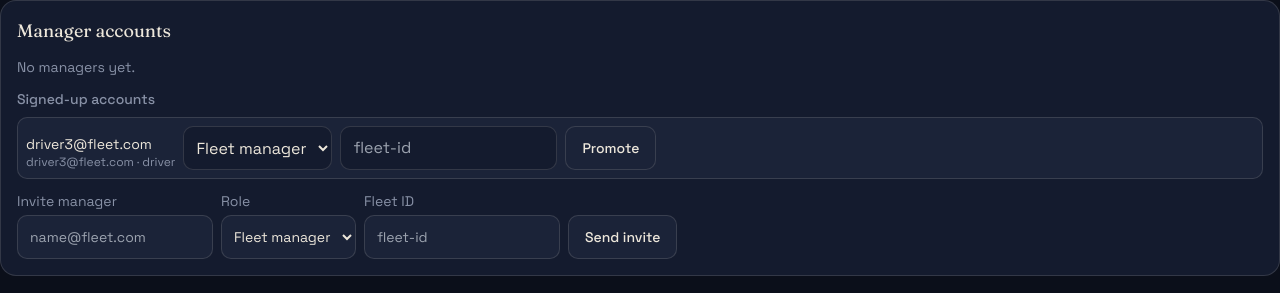
Scenario: ManagerList (real mode — Supabase env vars configured) › promotes a candidate to admin for an admin caller, hiding the fleet ID input and requiring none
This screenshot has width=1280, height=293.
Select "Admin" in the dropdown named "Role for driver3@fleet.com" at (258, 148), box 183,126 -> 332,170
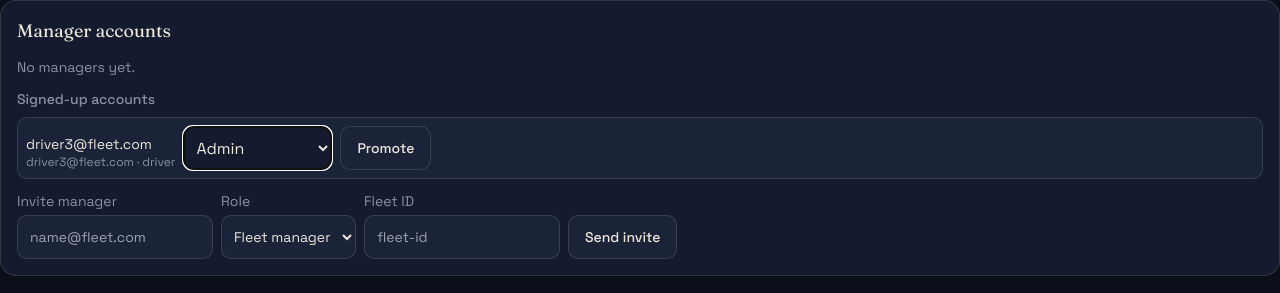
Click the button "Promote" at (386, 148), box 340,126 -> 431,170
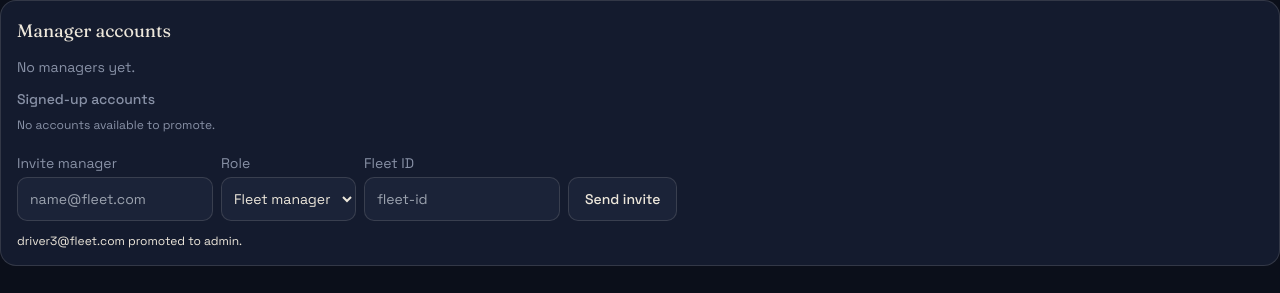
Check: the text "driver3@fleet.com promoted to admin." is shown, box 17,233 -> 242,249
